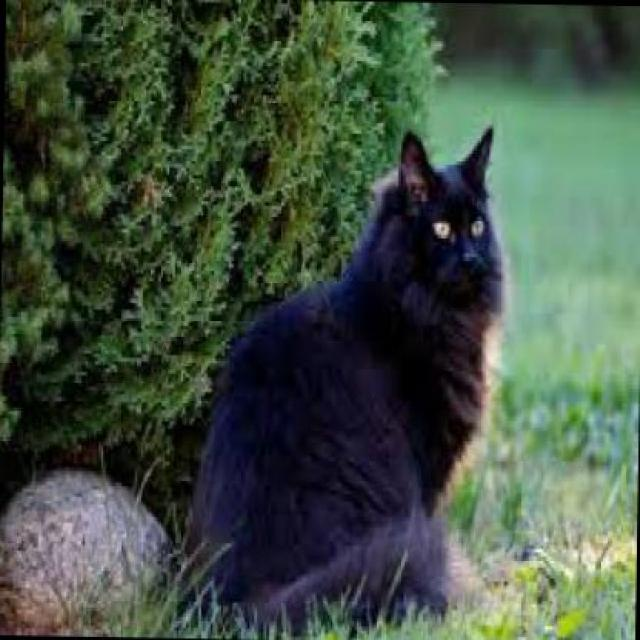animals: (175, 115, 514, 603)
